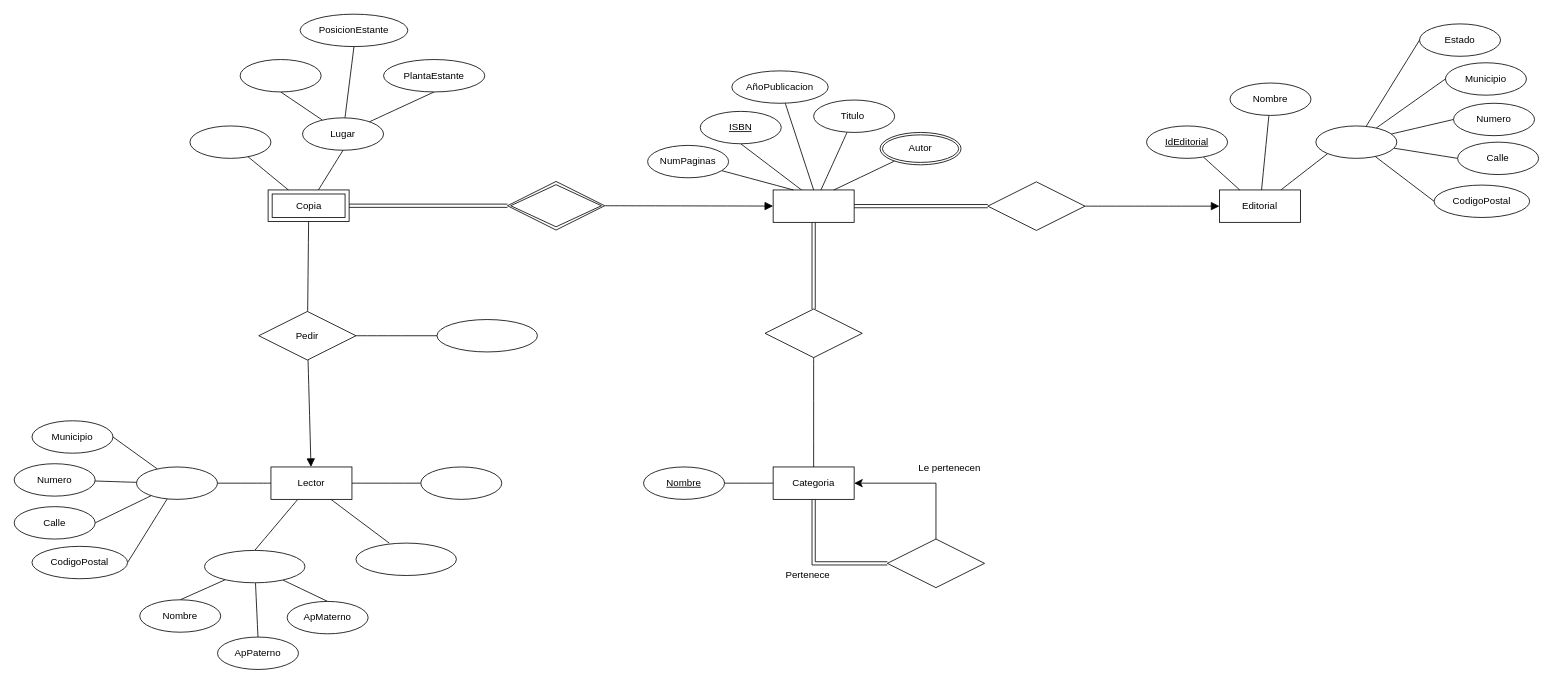
The diagram is 1553 pixels wide and 684 high, and some of its shapes have lost their labels. Each missing label, with the centre of its shape:
"Asignar" belongs at pixel 813 333.
"CDD" belongs at pixel 280 75.
"Direccion" belongs at pixel 176 482.
"FechaDevolucion" belongs at pixel 486 335.
"FechaNacimiento" belongs at pixel 405 559.
"IdLector" belongs at pixel 461 482.
"Libro" belongs at pixel 813 205.
"NombreCompleto" belongs at pixel 254 566.
"NumCopia" belongs at pixel 230 141.
"Pertenecer" belongs at pixel 936 563.
"Publicar" belongs at pixel 1036 205.
"Tener" belongs at pixel 556 205.
"Ubicacion" belongs at pixel 1356 141.
